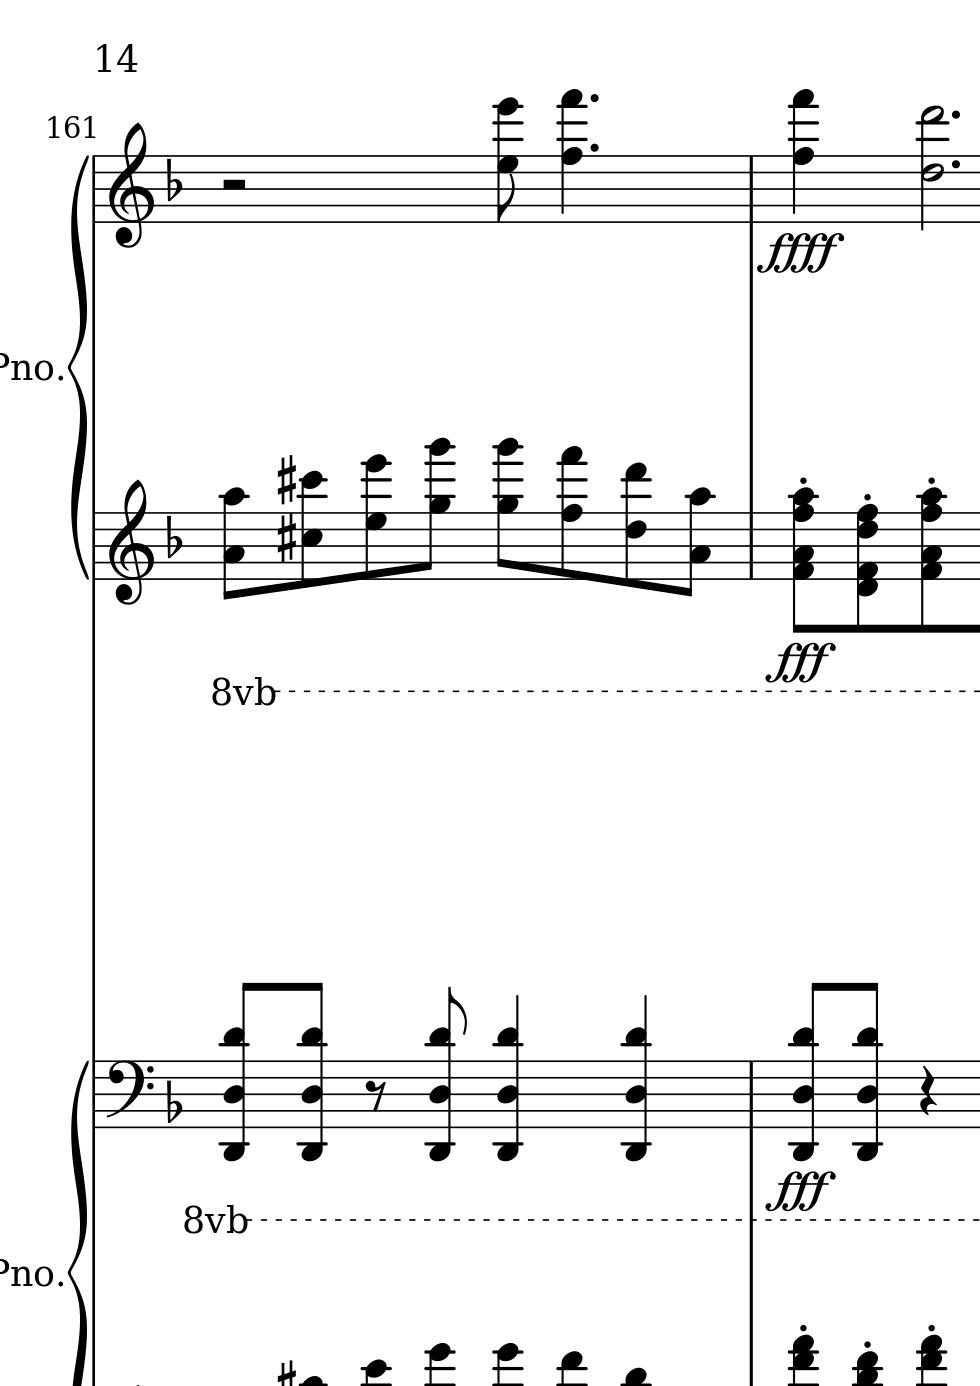1: (94, 43, 112, 75), (46, 112, 62, 143), (82, 113, 97, 141)
2_6_13: (917, 103, 948, 233)
4_8_15: (556, 87, 589, 224), (788, 87, 819, 225)
4_th: (617, 993, 654, 1169), (491, 992, 524, 1169)
6: (62, 113, 81, 141)
8_3_10: (677, 486, 713, 599), (218, 487, 249, 601)
8_4th: (787, 485, 820, 636), (916, 484, 946, 635), (853, 502, 883, 632)
8_5_12: (297, 469, 327, 589)
8_6_13: (620, 462, 652, 591)
8_7_14: (492, 97, 525, 225), (360, 453, 392, 581)
8_8_15: (556, 444, 587, 582)
8_9_16: (417, 437, 457, 583), (491, 437, 525, 581)
8_th: (424, 981, 468, 1169), (218, 982, 260, 1159), (787, 982, 827, 1161), (295, 984, 328, 1161), (851, 985, 882, 1161)
Brace: (65, 152, 91, 582)
Fclef: (104, 1059, 154, 1131)
Flat: (161, 1076, 183, 1125), (163, 514, 183, 561), (164, 157, 182, 204)
Gclef: (106, 478, 158, 609), (106, 121, 156, 250)
Rests2: (218, 176, 249, 193)
Rests4: (915, 1063, 940, 1119)
Rests8: (362, 1078, 388, 1113)
Sharp: (272, 513, 297, 567), (274, 452, 298, 504)
Single_barline: (743, 156, 759, 222), (743, 512, 758, 579), (88, 513, 103, 580), (743, 1062, 758, 1128), (88, 156, 102, 223), (88, 1062, 102, 1128)
dot: (587, 91, 601, 105), (587, 140, 600, 154), (949, 157, 963, 171), (949, 108, 962, 122)
fff: (764, 1168, 840, 1215), (764, 638, 838, 686)
ffff: (758, 232, 843, 277)
